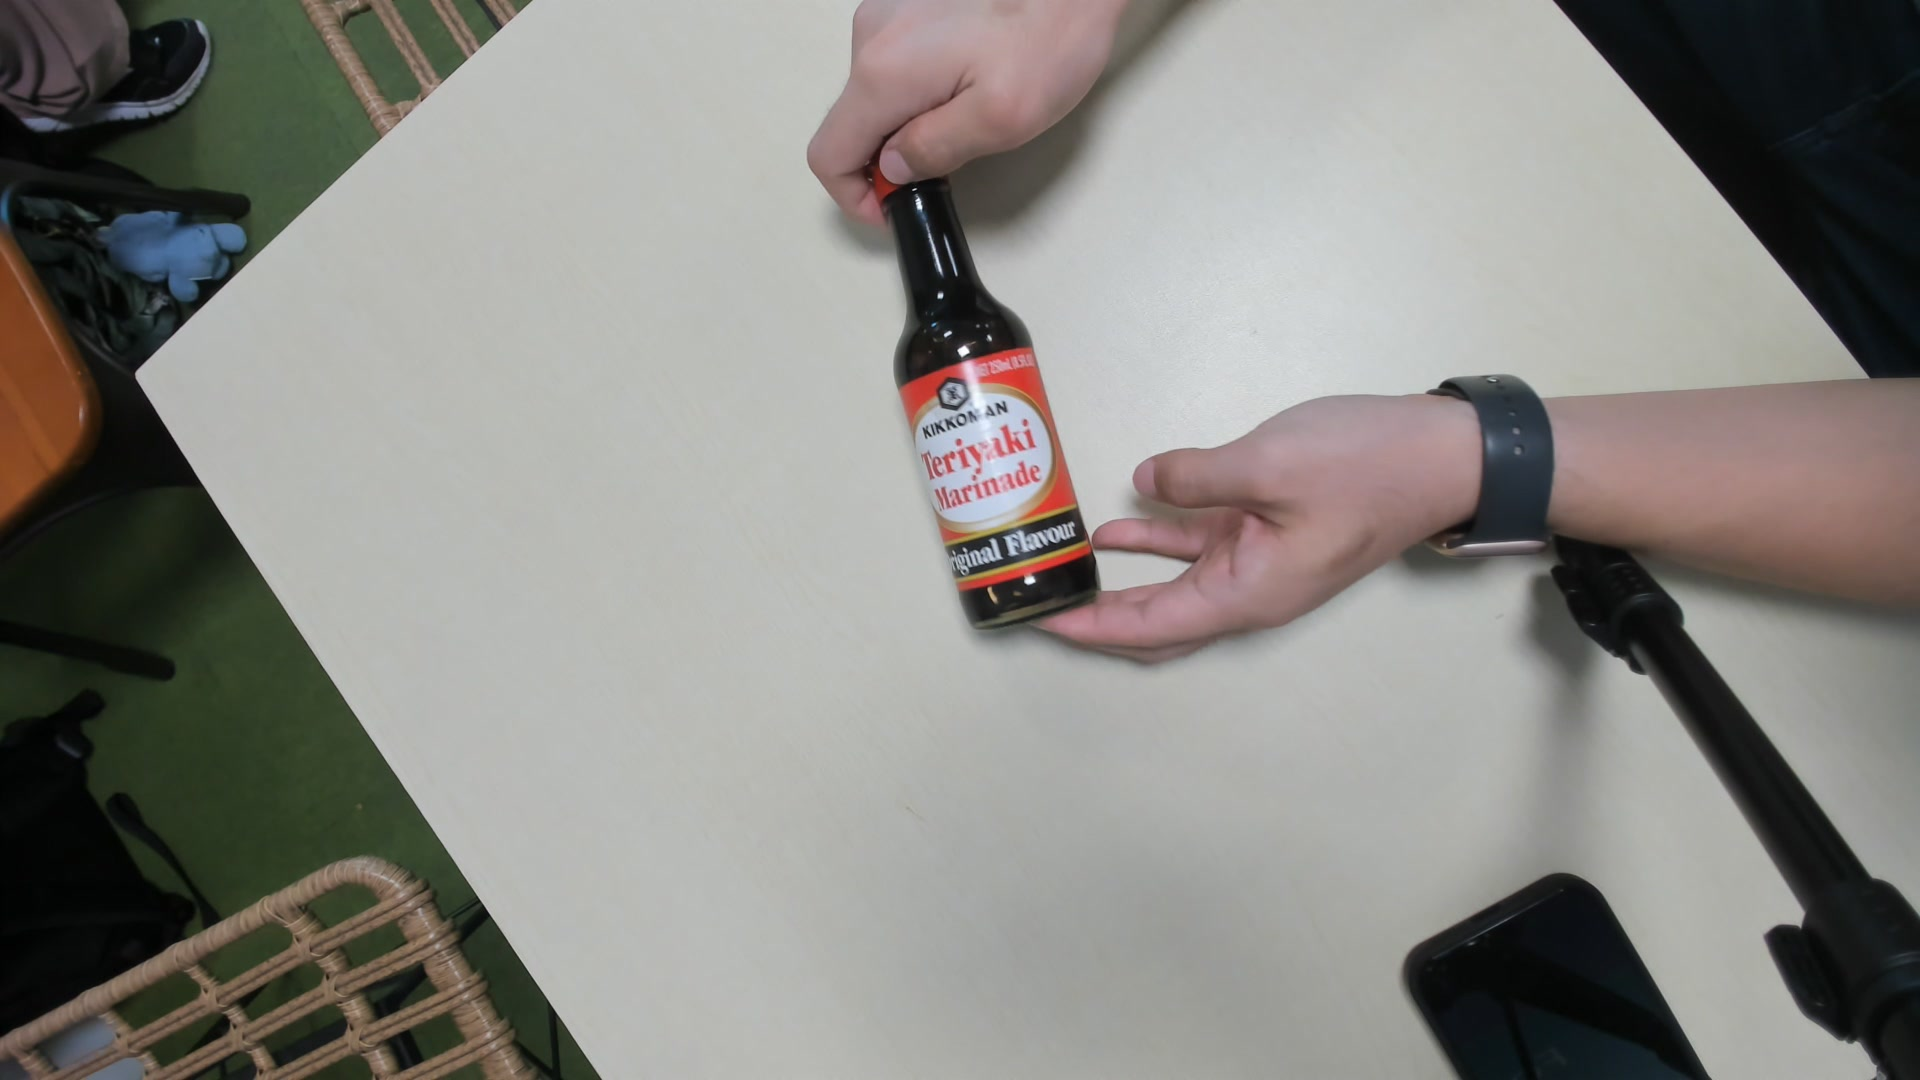OtherSauceDressing_200-299g_NonHalal_NonHealthy: (877, 164, 1102, 636)
